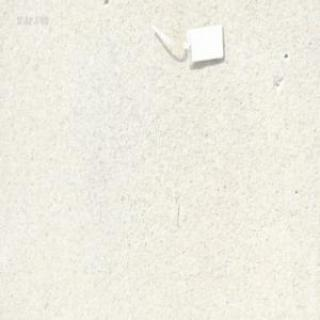LuggageTagtrack_idkeyframe: (147, 18, 225, 68)
